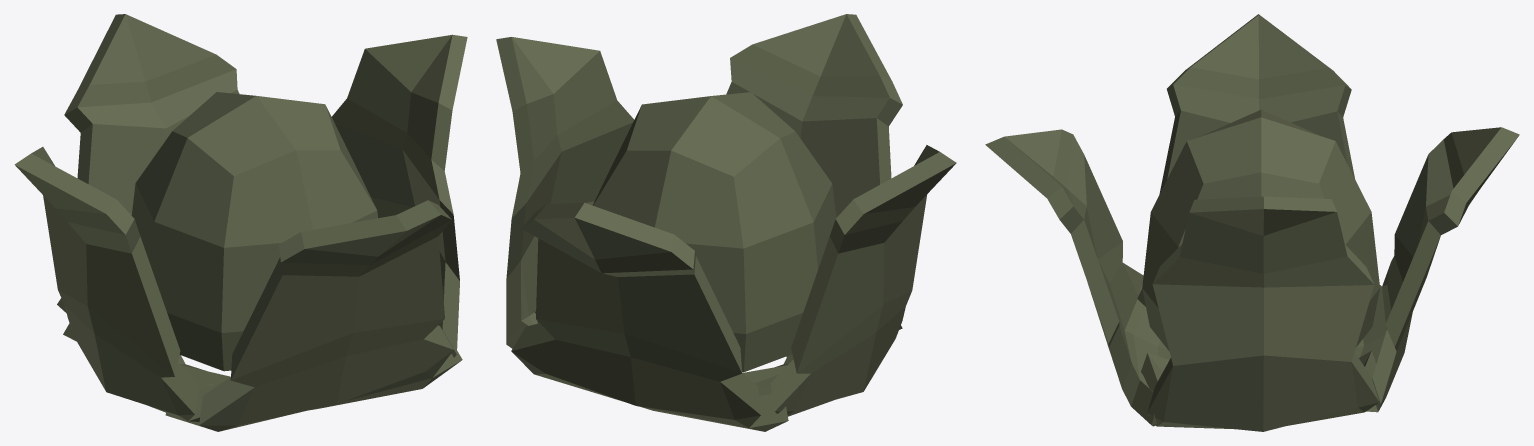
Rendered from quaternius-crops-pack-lettuce-3.glb.
The picture shows the model from 3 angles, left to right: view 1: azimuth 30°, elevation 25°; view 2: azimuth 150°, elevation 25°; view 3: azimuth 270°, elevation 25°; orthographic projection. The views are drawn at different scales.
Visible parts, largest first — view 1: Lettuce_3; view 2: Lettuce_3; view 3: Lettuce_3.
Boxes of the visible parts, x1=… form: Lettuce_3: x1=14, y1=14, x2=467, y2=431; Lettuce_3: x1=496, y1=14, x2=956, y2=431; Lettuce_3: x1=985, y1=14, x2=1519, y2=431.
Size of the model in its own units: 0.6231 by 0.3816 by 0.6764.
